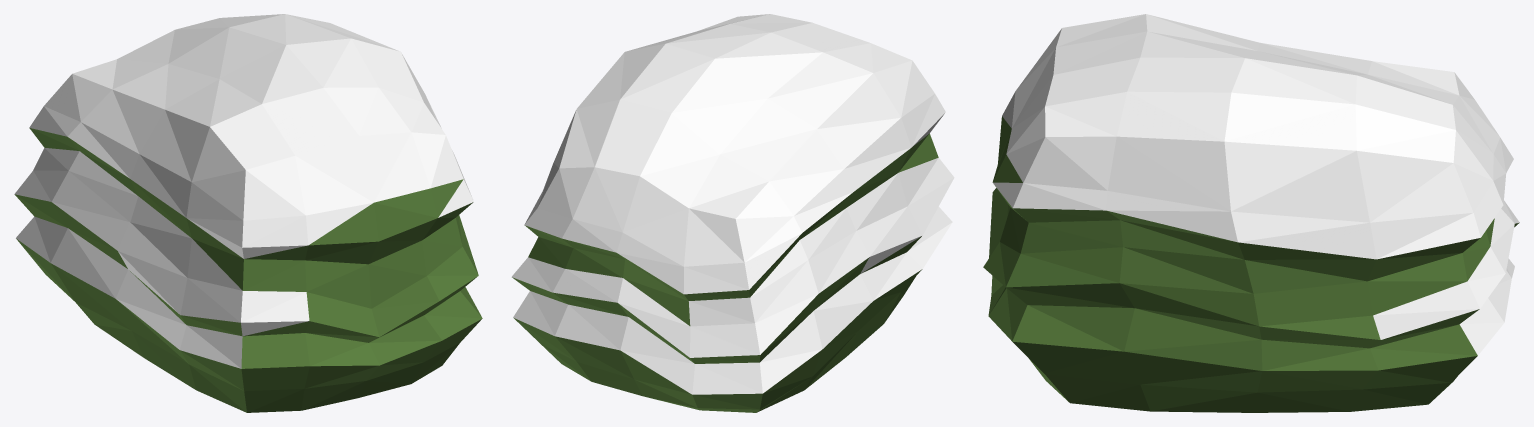
File: Bush_1_Snow.fbx
3 views of the same model, side by side, from view 1: azimuth 30°, elevation 25°; view 2: azimuth 150°, elevation 25°; view 3: azimuth 270°, elevation 25° (orthographic). The views are drawn at different scales.
Visible parts, largest first — view 1: Bush_1_Snow; view 2: Bush_1_Snow; view 3: Bush_1_Snow.
Part boxes in pixels (x1,y1,x2,y2): Bush_1_Snow: (14,14,482,412); Bush_1_Snow: (512,14,954,412); Bush_1_Snow: (983,14,1519,412).
Size of the model in its own units: 1.59 by 1.34 by 2.14.
